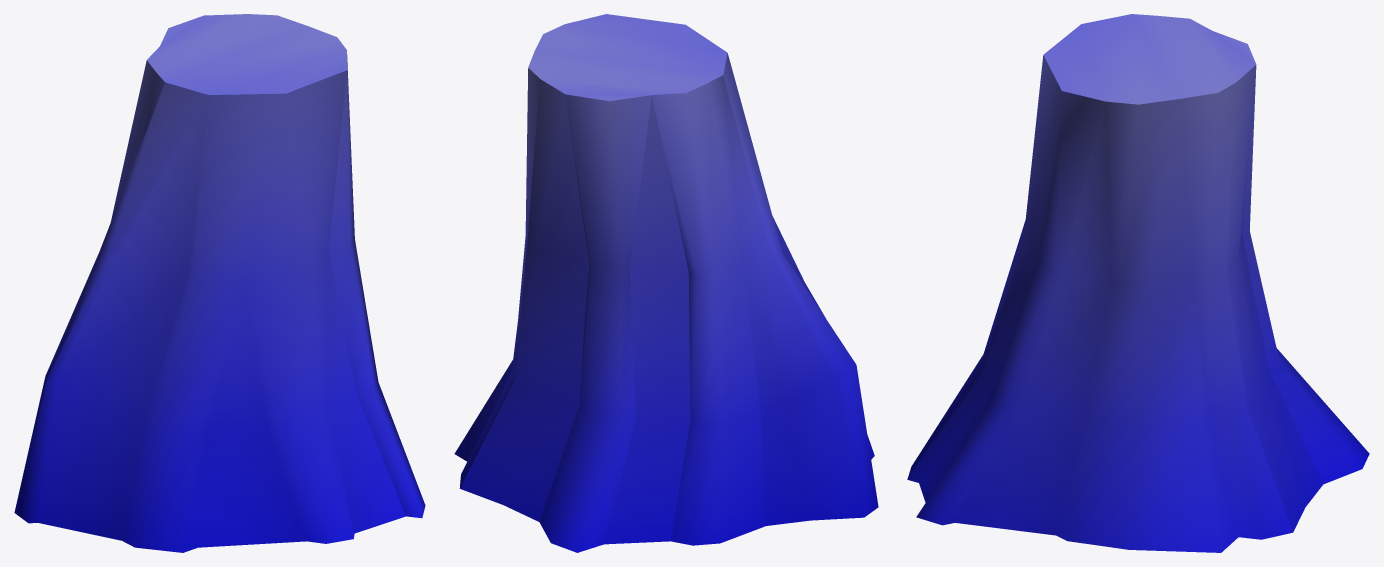
The model's file is BirowStump2.fbx.
3 views of the same model, side by side, from view 1: azimuth 30°, elevation 25°; view 2: azimuth 150°, elevation 25°; view 3: azimuth 270°, elevation 25° (orthographic). The views are drawn at different scales.
Parts seen in each view (by area): view 1: Birow.Stump_2_LOD0; view 2: Birow.Stump_2_LOD0; view 3: Birow.Stump_2_LOD0.
Part boxes in pixels (left/top/right/bottom): Birow.Stump_2_LOD0: left=14, top=14, right=425, bottom=552; Birow.Stump_2_LOD0: left=454, top=14, right=878, bottom=552; Birow.Stump_2_LOD0: left=907, top=14, right=1369, bottom=552.
Size of what is drawn, in the model's own units: 70.56 by 72.85 by 72.16.
